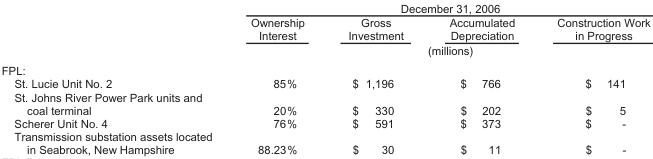table: (0, 1, 649, 155)
table column: (0, 1, 211, 155), (211, 1, 325, 155), (535, 1, 649, 155), (425, 1, 535, 155), (325, 1, 425, 155)
table column header: (0, 1, 649, 60)
table projected row header: (0, 60, 649, 77), (0, 90, 649, 103), (0, 129, 649, 142)
table row: (0, 15, 649, 42), (0, 42, 649, 60), (0, 60, 649, 77), (0, 1, 649, 15), (0, 77, 649, 90), (0, 90, 649, 103), (0, 103, 649, 116), (0, 116, 649, 129), (0, 129, 649, 142), (0, 142, 649, 155)
table spanning cell: (211, 42, 649, 60), (211, 1, 649, 15)
